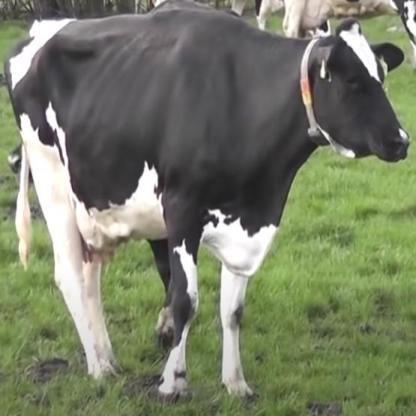cow: (3, 10, 410, 395)
